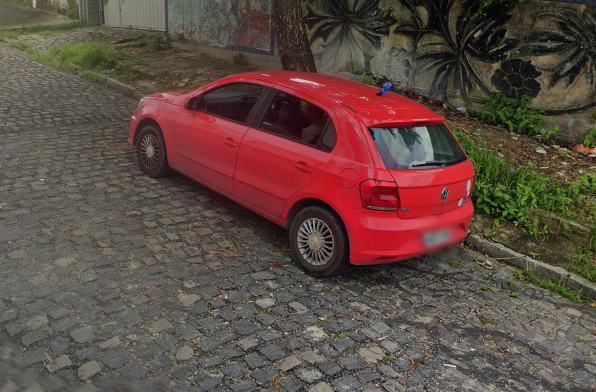car: (127, 67, 477, 279)
